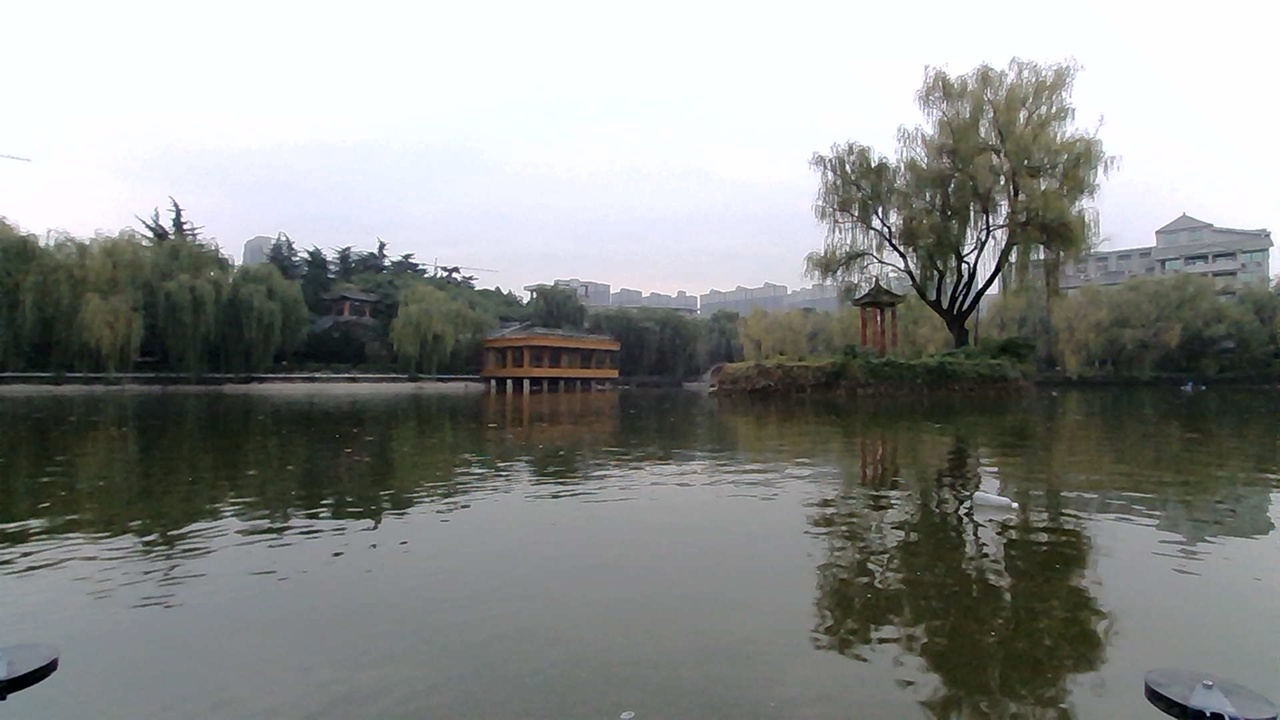bottle: (959, 486, 1023, 519)
